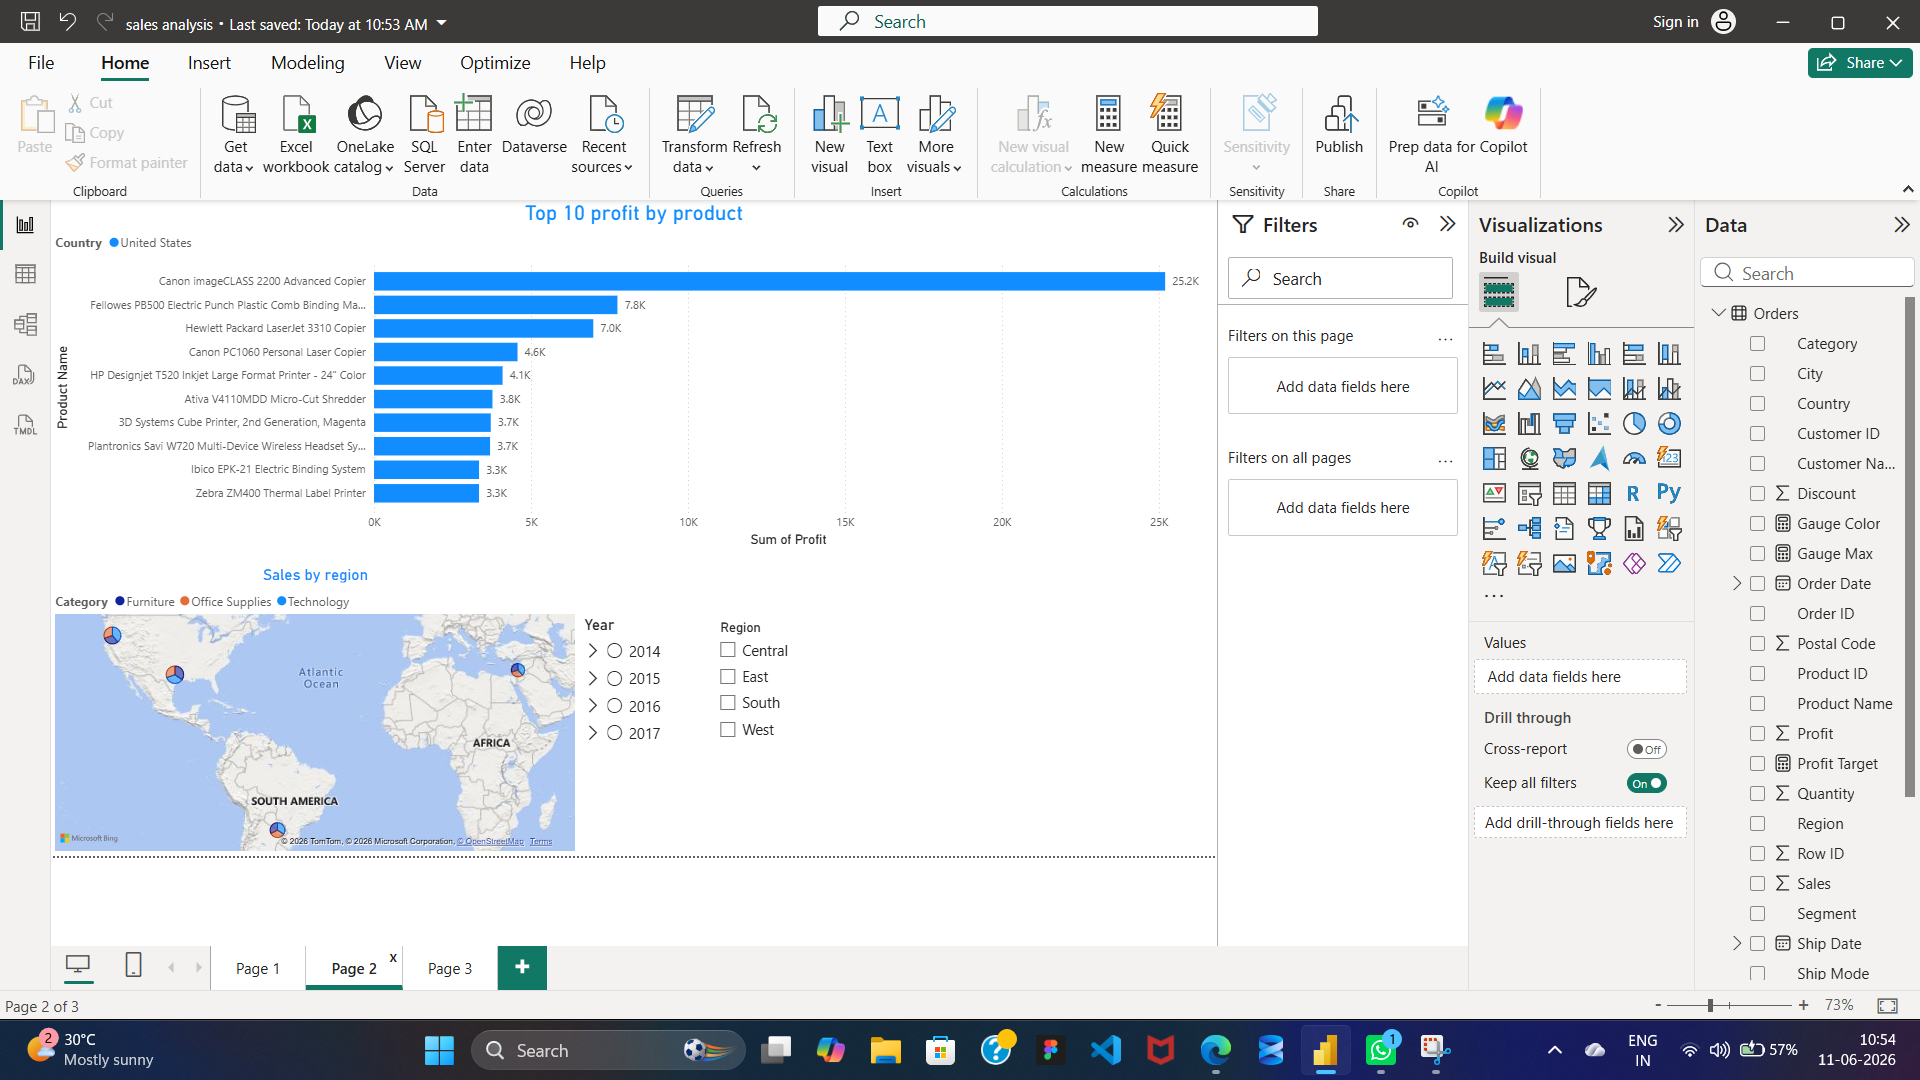

The dashboard page shown, as its layout file describes it:
{"tool":"powerbi","page":{"name":"Page 2","canvas":[1280,720],"ordinal":1},"visuals":[{"type":"map","title":"Sales by region","fields":{"Size":["Sum(Orders.Sales)"],"Category":["Orders.Region"],"Series":["Orders.Category"]},"box":[0,400.7,580.4,319.7],"z":0},{"type":"listSlicer","fields":{"Values":["Orders.Order Date.Variation.Date Hierarchy.Year","Orders.Order Date.Variation.Date Hierarchy.Quarter","Orders.Order Date.Variation.Date Hierarchy.Month","Orders.Order Date.Variation.Date Hierarchy.Day"]},"box":[580.4,455.6,237.4,168.8],"z":1000},{"type":"clusteredBarChart","title":"Top 10 profit by product","fields":{"Category":["Orders.Product Name"],"Series":["Orders.Country"],"Y":["Sum(Orders.Profit)"]},"box":[0,0,1280.3,385.6],"z":2000},{"type":"slicer","fields":{"Values":["Orders.Region"]},"box":[721.5,456.1,143.1,168.8],"z":3000}]}

Visuals, with their boxes on the page's 1280x720 design canvas (x1, y1, x2, y2). These are canvas units, not pixel positions in the 1920x1080 screenshot, which may show the page scaled, cropped or inside an application window:
"Sales by region" map: (0, 401, 580, 720)
listSlicer - Orders.Order Date.Variation.Date Hierarchy.Year x Orders.Order Date.Variation.Date Hierarchy.Quarter: (580, 456, 818, 624)
"Top 10 profit by product" clusteredBarChart: (0, 0, 1280, 386)
slicer - Orders.Region: (722, 456, 865, 625)
